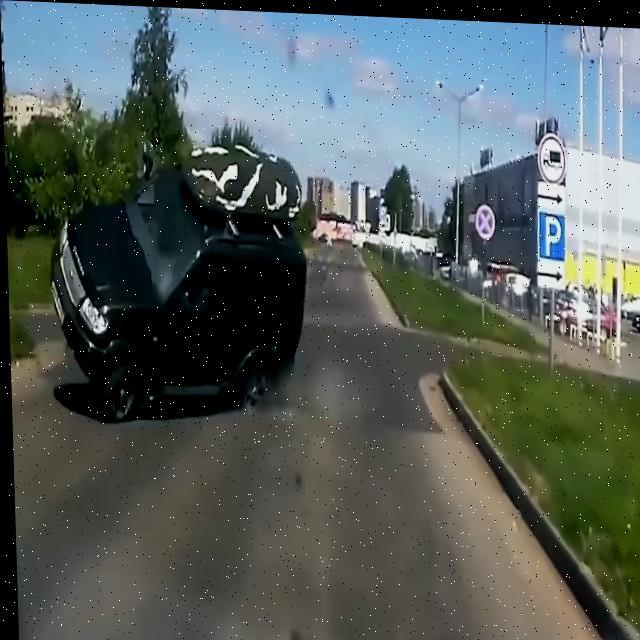single accident: (32, 87, 297, 448)
